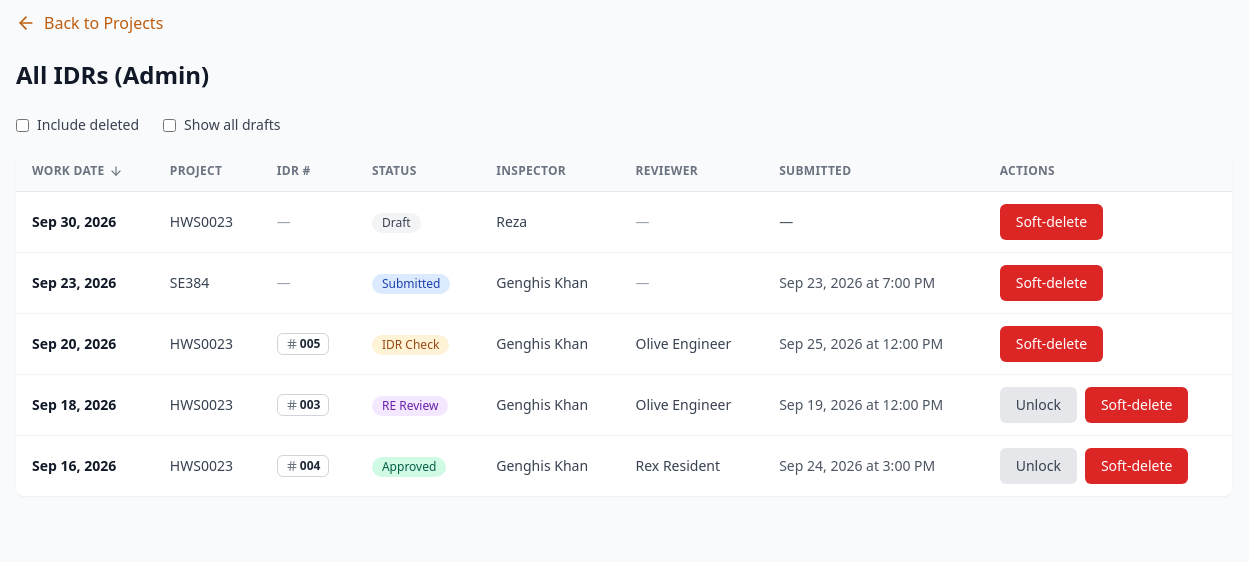
it: AdminIdrsPage — toggles › "Show all drafts" brings in everyone's drafts, without asking the backend again
What coordinates should you click on to do the following:
click the checkbox labelled "Show all drafts"
I would click on:
 (170, 125)
Its box is [163,118,176,132].
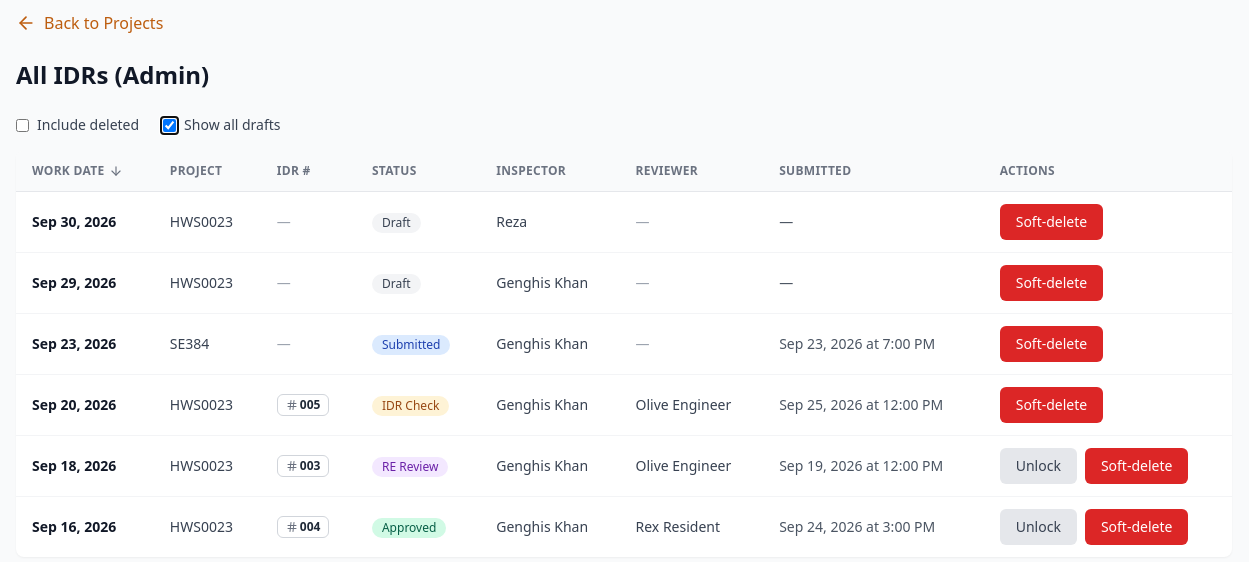
Expected: the text "Draft" in the row of "Sep 30, 2026" is shown, [382,214,411,230]
Expected: the text "Sep 29, 2026" is shown, [32,273,116,292]
